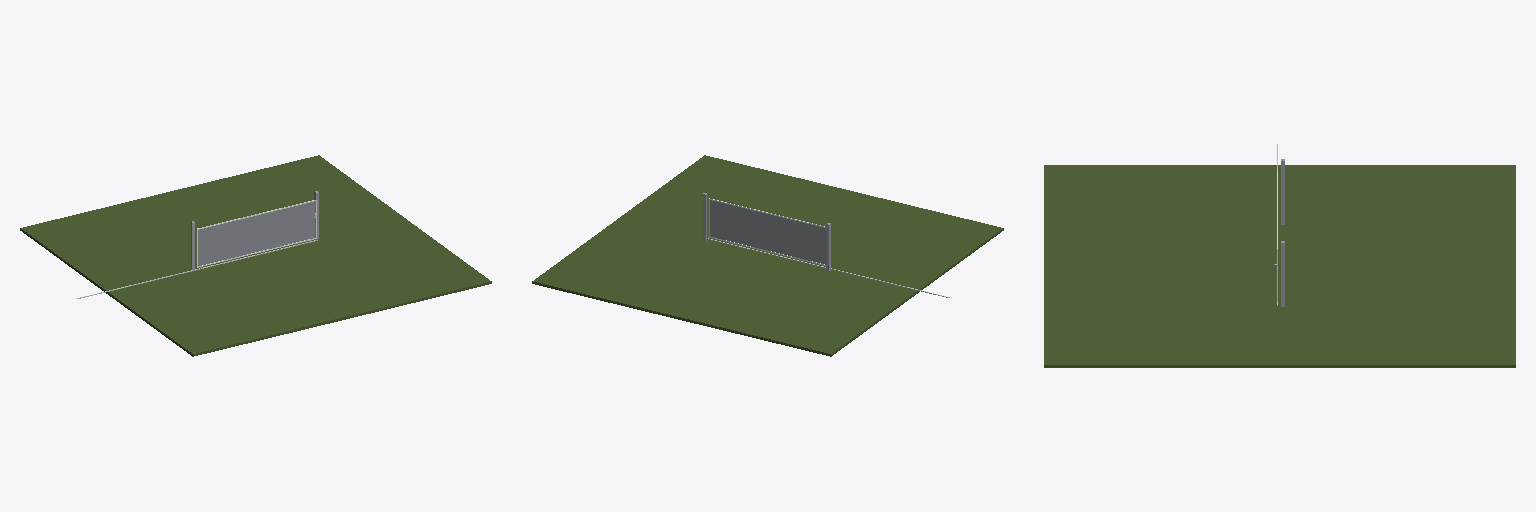
robot.urdf — db0309_gate_sliding_simple:
<?xml version="1.0" ?>
<robot xmlns:doorbench="https://github.com/adamraudonis/DoorBench/schema/urdf-ext" name="db0309_gate_sliding_simple">
  <link name="world_env">
    <visual name="floor_vis">
      <origin xyz="0 0 -0.05" rpy="0 0 0"/>
      <geometry>
        <box size="12 12 0.1"/>
      </geometry>
      <material name="mat_floor"/>
    </visual>
    <collision name="floor_col">
      <origin xyz="0 0 -0.05" rpy="0 0 0"/>
      <geometry>
        <box size="12 12 0.1"/>
      </geometry>
    </collision>
    <visual name="post_l_vis">
      <origin xyz="-2.485 0.08 0.9" rpy="0 0 0"/>
      <geometry>
        <box size="0.12 0.12 1.8"/>
      </geometry>
      <material name="mat_frame"/>
    </visual>
    <collision name="post_l_col">
      <origin xyz="-2.485 0.08 0.9" rpy="0 0 0"/>
      <geometry>
        <box size="0.12 0.12 1.8"/>
      </geometry>
    </collision>
    <visual name="post_r_vis">
      <origin xyz="2.485 0.08 0.9" rpy="0 0 0"/>
      <geometry>
        <box size="0.12 0.12 1.8"/>
      </geometry>
      <material name="mat_frame"/>
    </visual>
    <collision name="post_r_col">
      <origin xyz="2.485 0.08 0.9" rpy="0 0 0"/>
      <geometry>
        <box size="0.12 0.12 1.8"/>
      </geometry>
    </collision>
    <visual name="gate_rail_vis">
      <origin xyz="-2.4 -0.06 0.012" rpy="0 0 0"/>
      <geometry>
        <box size="9.7 0.04 0.024"/>
      </geometry>
      <material name="mat_track"/>
    </visual>
    <collision name="gate_rail_col">
      <origin xyz="-2.4 -0.06 0.012" rpy="0 0 0"/>
      <geometry>
        <box size="9.7 0.04 0.024"/>
      </geometry>
    </collision>
  </link>
  <link name="leaf">
    <inertial>
      <origin xyz="0.00315 -0.00009 0.82716" rpy="0 0 0"/>
      <mass value="312.44"/>
      <inertia ixx="59.034346885" ixy="0.064869037" ixz="-0.217201961" iyy="664.224989381" iyz="0.004860283" izz="605.226949653"/>
    </inertial>
    <collision name="leaf_slab_col_col">
      <origin xyz="0 0 0.83" rpy="0 0 0"/>
      <geometry>
        <box size="4.8 0.025 1.5"/>
      </geometry>
    </collision>
    <visual name="leaf_rail_b_vis">
      <origin xyz="0 0 0.1025" rpy="0 0 0"/>
      <geometry>
        <box size="4.8 0.025 0.045"/>
      </geometry>
      <material name="mat_leaf"/>
    </visual>
    <visual name="leaf_rail_t_vis">
      <origin xyz="0 0 1.5575" rpy="0 0 0"/>
      <geometry>
        <box size="4.8 0.025 0.045"/>
      </geometry>
      <material name="mat_leaf"/>
    </visual>
    <visual name="leaf_stile_h_vis">
      <origin xyz="-2.3775 0 0.83" rpy="0 0 0"/>
      <geometry>
        <box size="0.045 0.025 1.5"/>
      </geometry>
      <material name="mat_leaf"/>
    </visual>
    <visual name="leaf_stile_l_vis">
      <origin xyz="2.3775 0 0.83" rpy="0 0 0"/>
      <geometry>
        <box size="0.045 0.025 1.5"/>
      </geometry>
      <material name="mat_leaf"/>
    </visual>
    <visual name="leaf_mesh_vis">
      <origin xyz="0 0 0.83" rpy="0 0 0"/>
      <geometry>
        <box size="4.71 0.003 1.41"/>
      </geometry>
      <material name="mat_mesh_infill"/>
    </visual>
    <visual name="leaf_roller_0_vis">
      <origin xyz="-2.26 0 0.064" rpy="-1.570796 0 0"/>
      <geometry>
        <cylinder radius="0.04" length="0.016"/>
      </geometry>
      <material name="mat_roller"/>
    </visual>
    <visual name="leaf_roller_1_vis">
      <origin xyz="2.18 0 0.064" rpy="-1.570796 0 0"/>
      <geometry>
        <cylinder radius="0.04" length="0.016"/>
      </geometry>
      <material name="mat_roller"/>
    </visual>
    <visual name="leaf_pull_n_vis">
      <origin xyz="2.31 -0.0125 1" rpy="1.570796 0 0"/>
      <geometry>
        <mesh filename="../../hardware/pull_1e5d69a91a.obj"/>
      </geometry>
      <material name="mat_op_stainless"/>
    </visual>
    <collision name="leaf_pull_col_n_col">
      <origin xyz="2.31 -0.0725 1" rpy="0 0 0"/>
      <geometry>
        <cylinder radius="0.0095" length="0.16"/>
      </geometry>
    </collision>
  </link>
  <joint name="leaf_slide" type="prismatic">
    <origin xyz="0 -0.06 0" rpy="0 0 0"/>
    <parent link="world_env"/>
    <child link="leaf"/>
    <axis xyz="-1 0 0"/>
    <limit lower="0" upper="4.8" effort="5000" velocity="10"/>
    <dynamics damping="17.622" friction="367.678767"/>
  </joint>
  <material name="mat_floor">
    <color rgba="0.35 0.42 0.25 1"/>
  </material>
  <material name="mat_frame">
    <color rgba="0.65 0.66 0.68 1"/>
  </material>
  <material name="mat_leaf">
    <color rgba="0.93 0.93 0.91 1"/>
  </material>
  <material name="mat_mesh_infill">
    <color rgba="0.6 0.62 0.64 0.55"/>
  </material>
  <material name="mat_op_stainless">
    <color rgba="0.75 0.76 0.77 1"/>
  </material>
  <material name="mat_roller">
    <color rgba="0.65 0.66 0.68 1"/>
  </material>
  <material name="mat_track">
    <color rgba="0.8 0.81 0.83 1"/>
  </material>
</robot>

--- Render facts (derived) ---
3 views of the same robot in one strip: view 1: azimuth 30°, elevation 25°; view 2: azimuth 150°, elevation 25°; view 3: azimuth 270°, elevation 25° (orthographic).
Model db0309_gate_sliding_simple with 2 links and 1 joints (1 prismatic), rooted at world_env, posed every joint at zero.
Visible links, largest first — view 1: world_env, leaf; view 2: world_env, leaf; view 3: world_env.
Link boxes in pixels (<box>): world_env: <box>20,155,491,356</box>; leaf: <box>197,200,316,268</box>; world_env: <box>532,155,1003,356</box>; leaf: <box>709,198,825,266</box>; world_env: <box>1044,144,1515,367</box>.
Size in the robot's own frame: 13.25 by 12 by 1.9 metres.
1 mesh visuals loaded from 1 distinct referenced files (1 OBJ).
